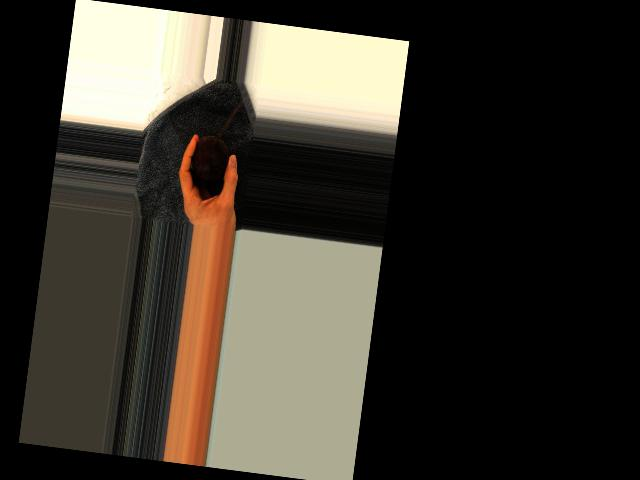beet: (189, 134, 231, 183)
